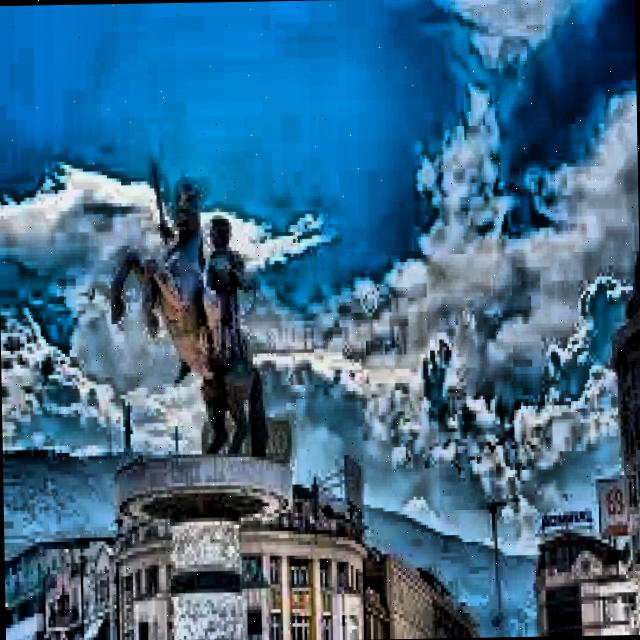alexander the great monument: (101, 153, 300, 640)
